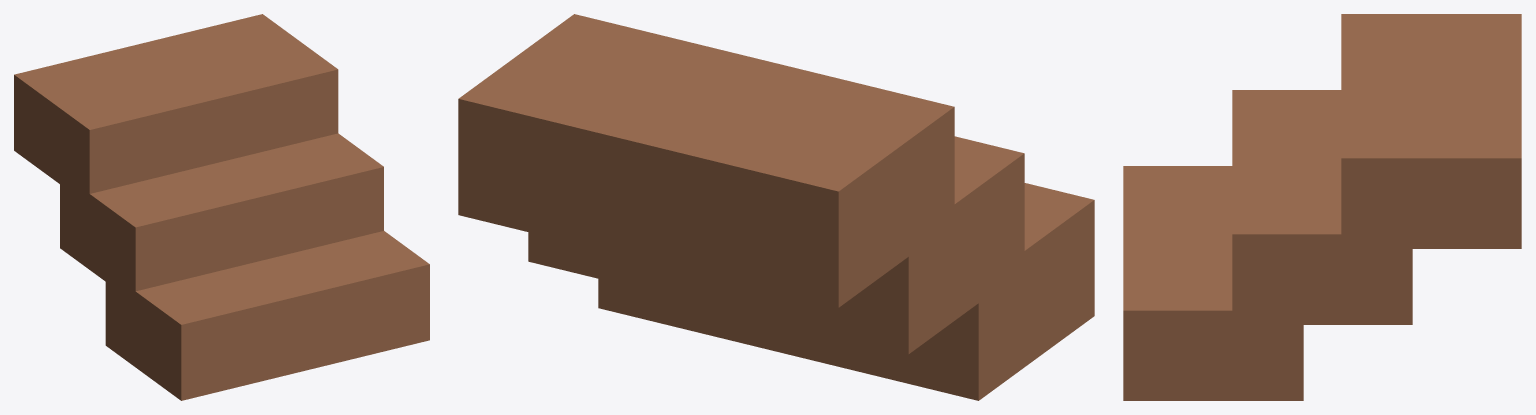
The model's file is Stairs.fbx.
3 renders of one model, left to right at view 1: azimuth 30°, elevation 25°; view 2: azimuth 150°, elevation 25°; view 3: azimuth 270°, elevation 25°, orthographic. The views are drawn at different scales.
Parts seen in each view (by area): view 1: Stairs_1; view 2: Stairs_1; view 3: Stairs_1.
Boxes of the visible parts, x1=… form: Stairs_1: x1=14, y1=14, x2=429, y2=400; Stairs_1: x1=458, y1=14, x2=1094, y2=400; Stairs_1: x1=1123, y1=14, x2=1521, y2=400.
Size of the model in its own units: 533 by 418 by 621.
